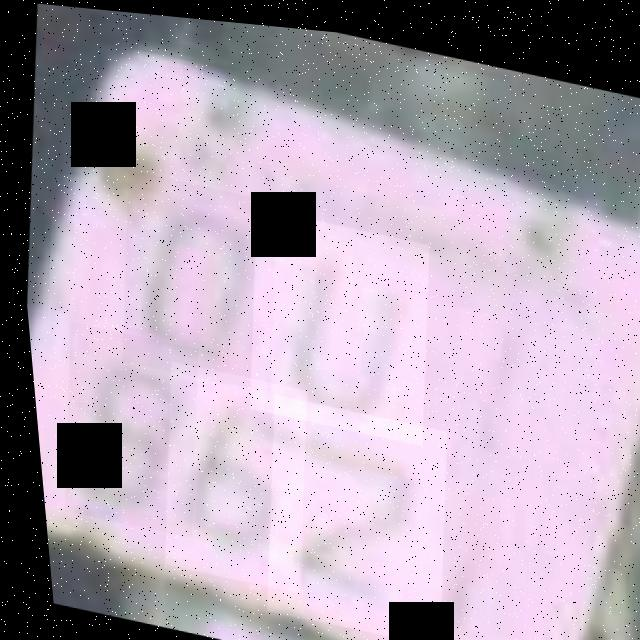2: (240, 387, 455, 640)
6: (139, 356, 314, 590)
9: (41, 318, 205, 537)
O: (101, 165, 287, 390)
U: (228, 201, 440, 440)
